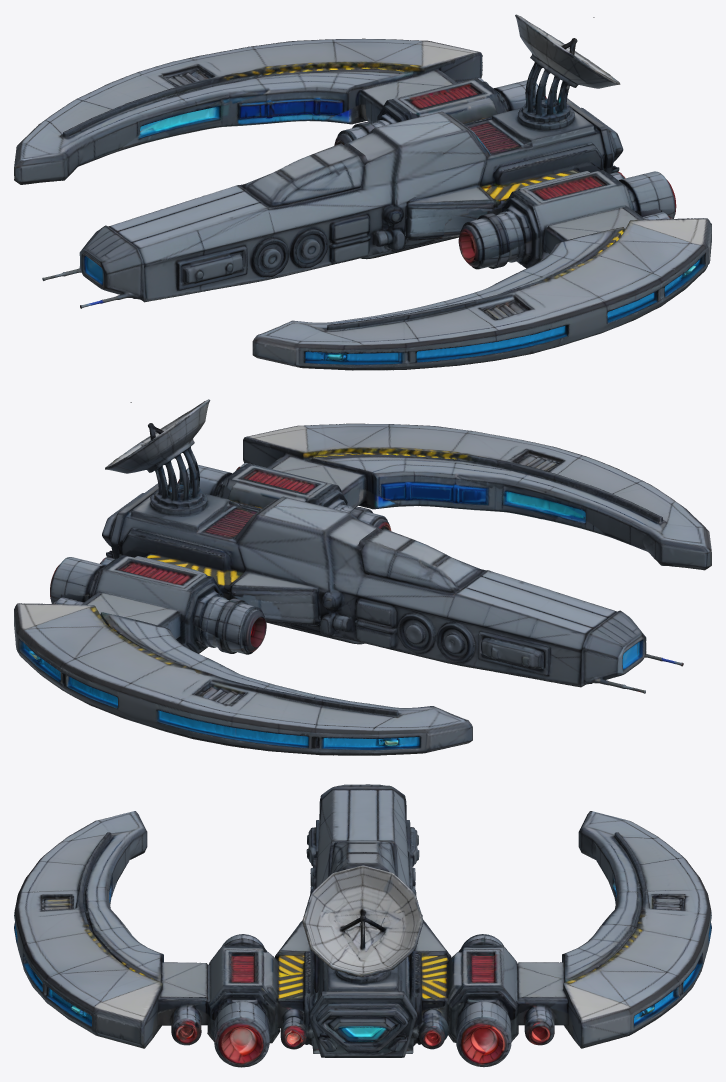
File: dendrite.glb
The picture shows the model from 3 angles, top to bottom: view 1: azimuth 30°, elevation 25°; view 2: azimuth 150°, elevation 25°; view 3: azimuth 270°, elevation 25°; orthographic projection. The views are drawn at different scales.
Bounding box in the file's own units: 1.66 × 0.5255 × 1.9.
1 material, 1 textured.
